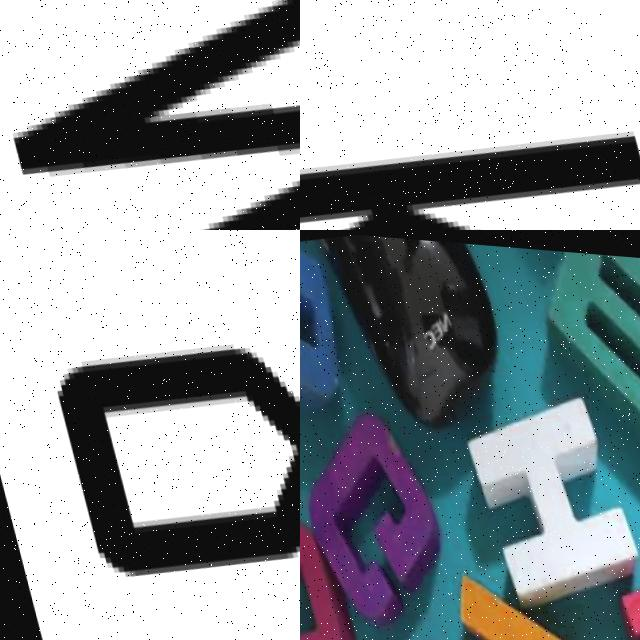8: (30, 258, 300, 616)
B: (300, 230, 351, 413)
G: (300, 400, 459, 623)
H: (446, 362, 640, 610)
K: (300, 69, 640, 230)
L: (435, 527, 637, 640)
M: (523, 240, 640, 470)
N: (0, 0, 300, 230)
O: (300, 492, 362, 640)
